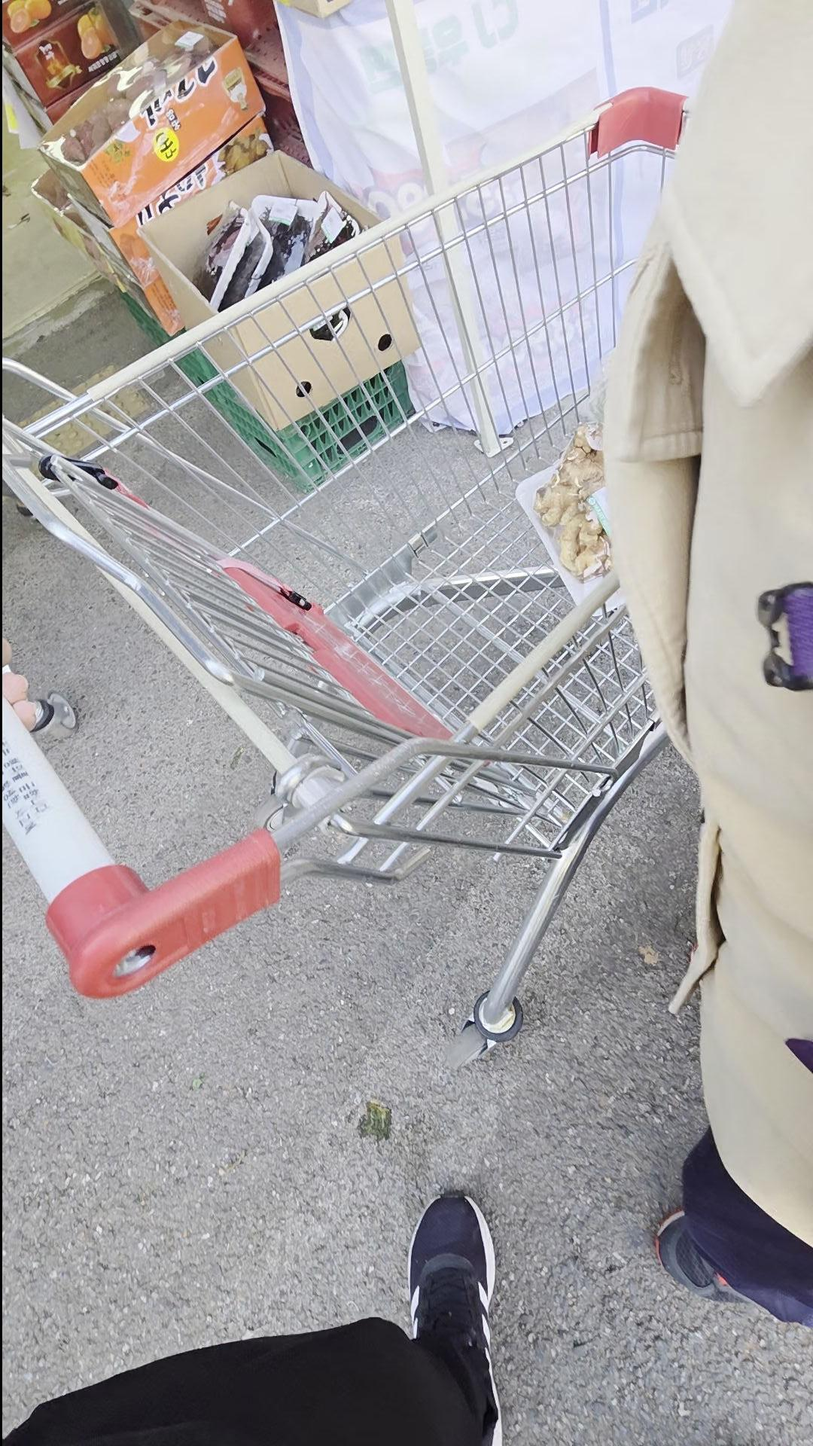fully_cart: (15, 90, 716, 1066)
